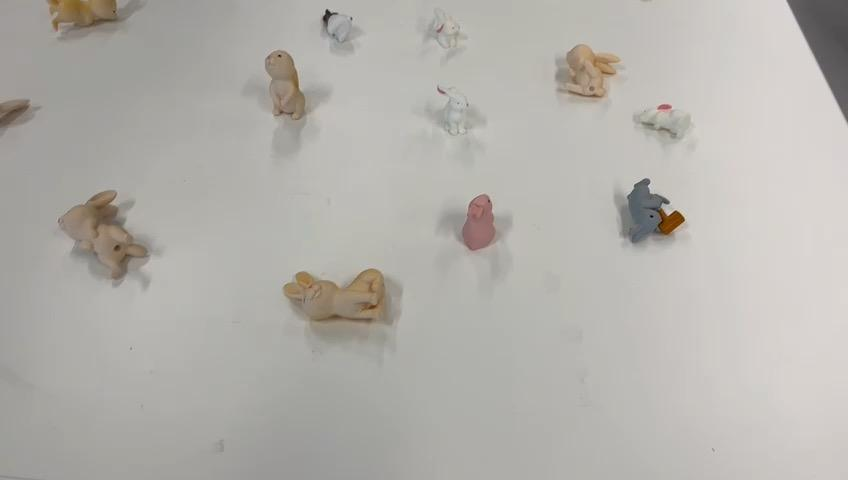pet: (56, 186, 150, 284), (278, 261, 390, 325), (624, 171, 689, 248), (555, 41, 623, 101), (261, 47, 310, 124), (457, 184, 500, 254), (632, 101, 699, 142), (429, 80, 477, 136), (48, 0, 122, 35), (428, 4, 468, 53), (317, 1, 357, 47)
